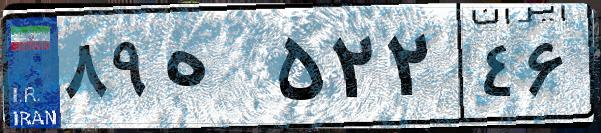2: (385, 28, 445, 110), (330, 28, 385, 110)
4: (475, 38, 525, 113)
5: (270, 28, 330, 110)
6: (525, 38, 570, 115)
8: (57, 26, 110, 100)
9: (110, 28, 158, 98)
ه: (158, 20, 270, 120)
